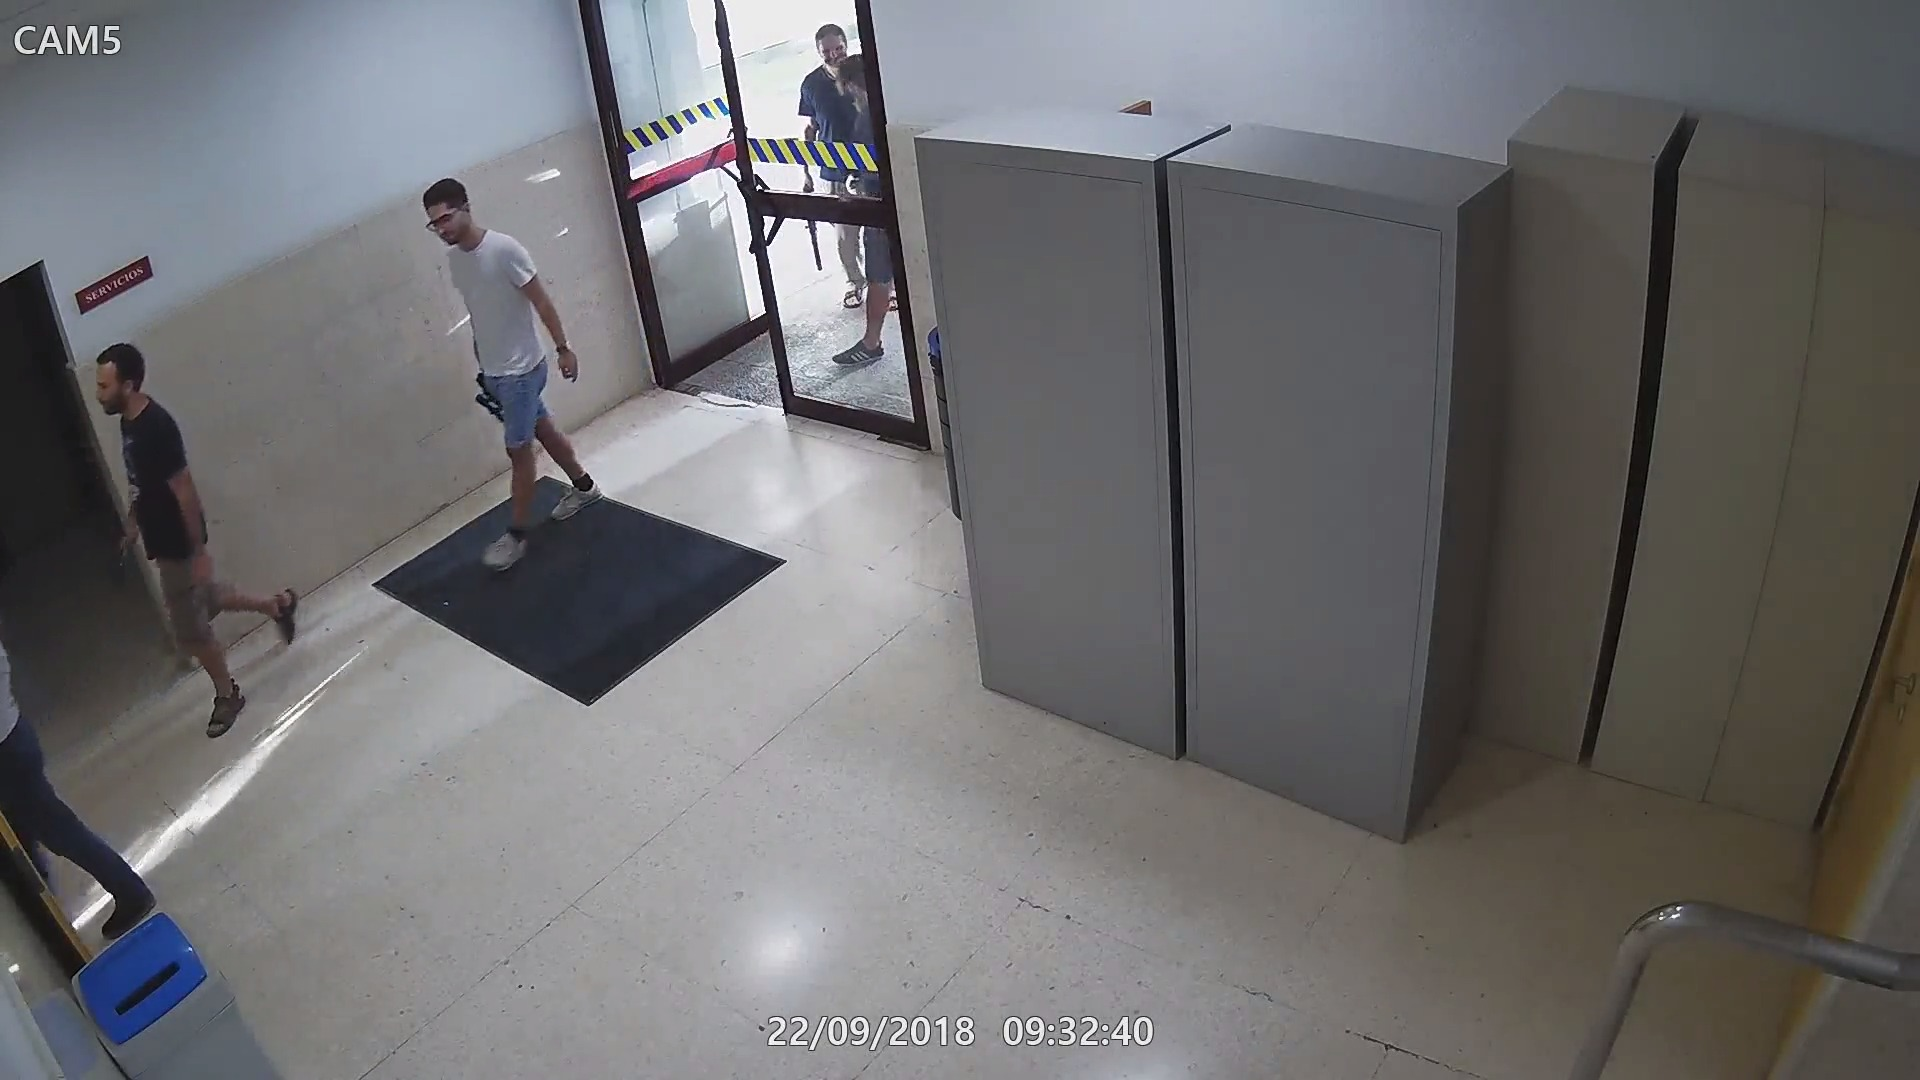Handgun: (103, 522, 141, 572)
Short_rifle: (794, 169, 829, 270), (469, 367, 514, 429)
